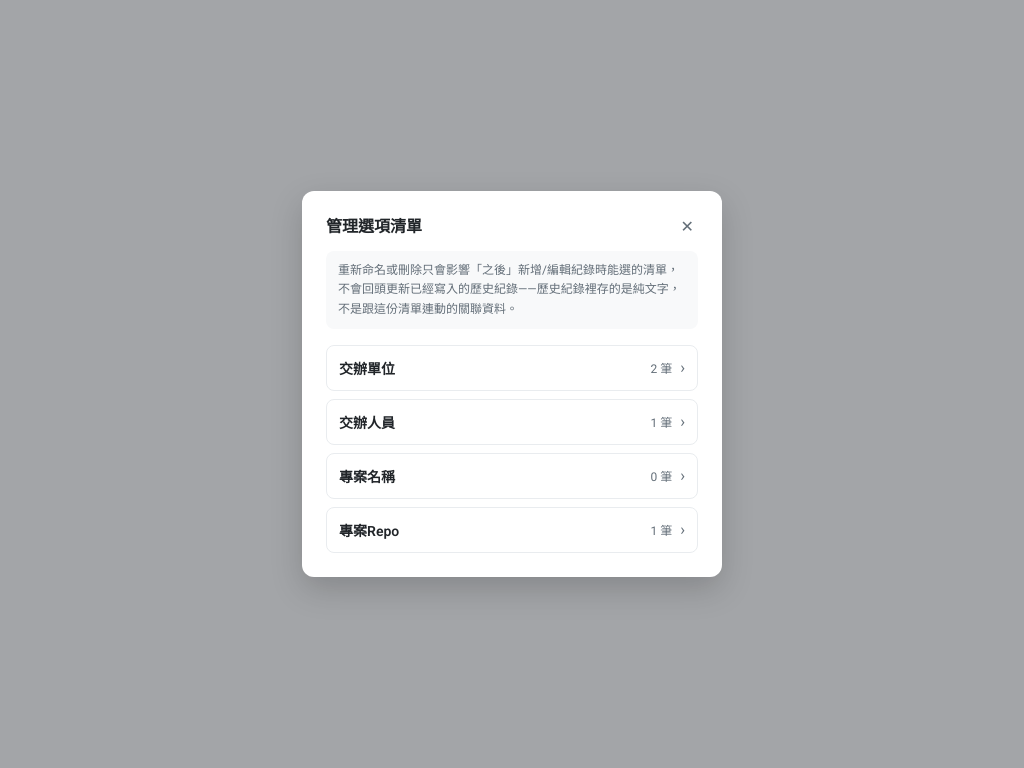
Test: 導覽 › 選了母項只顯示那一類的值，返回回到第一層
The image size is (1024, 768).
Step 1. Click the button "交辦單位 2 筆 ›" → click(367, 369), box [326,345,698,391]
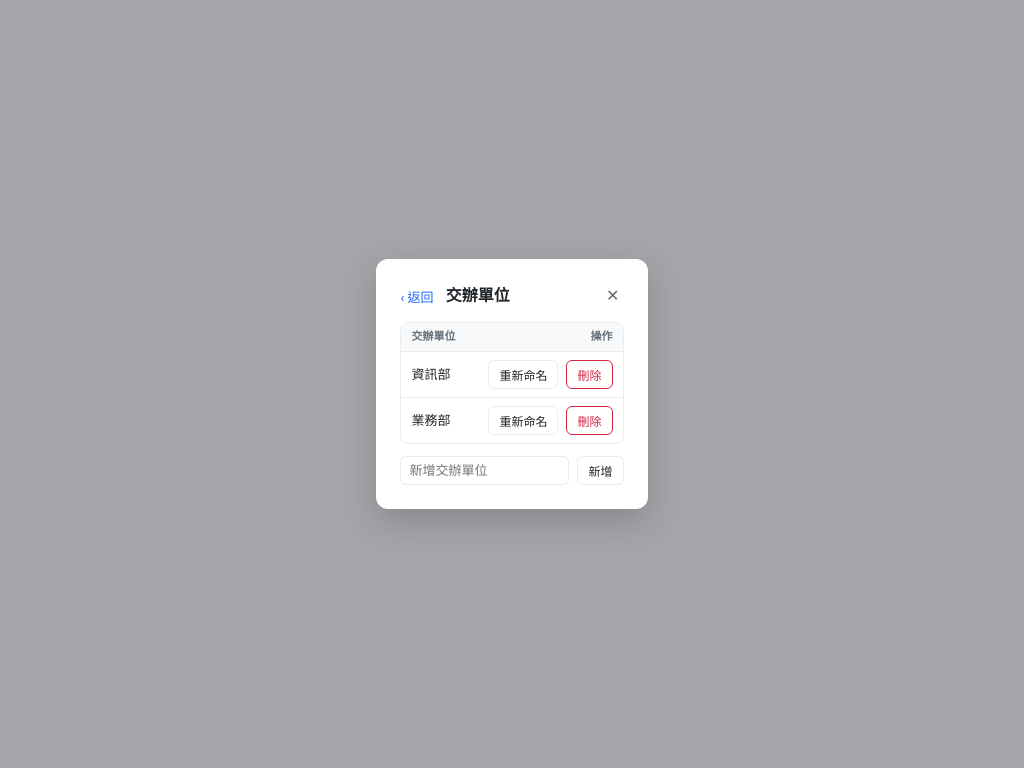
Step 2. Click the button "‹ 返回" → click(419, 296), box [400,283,438,310]
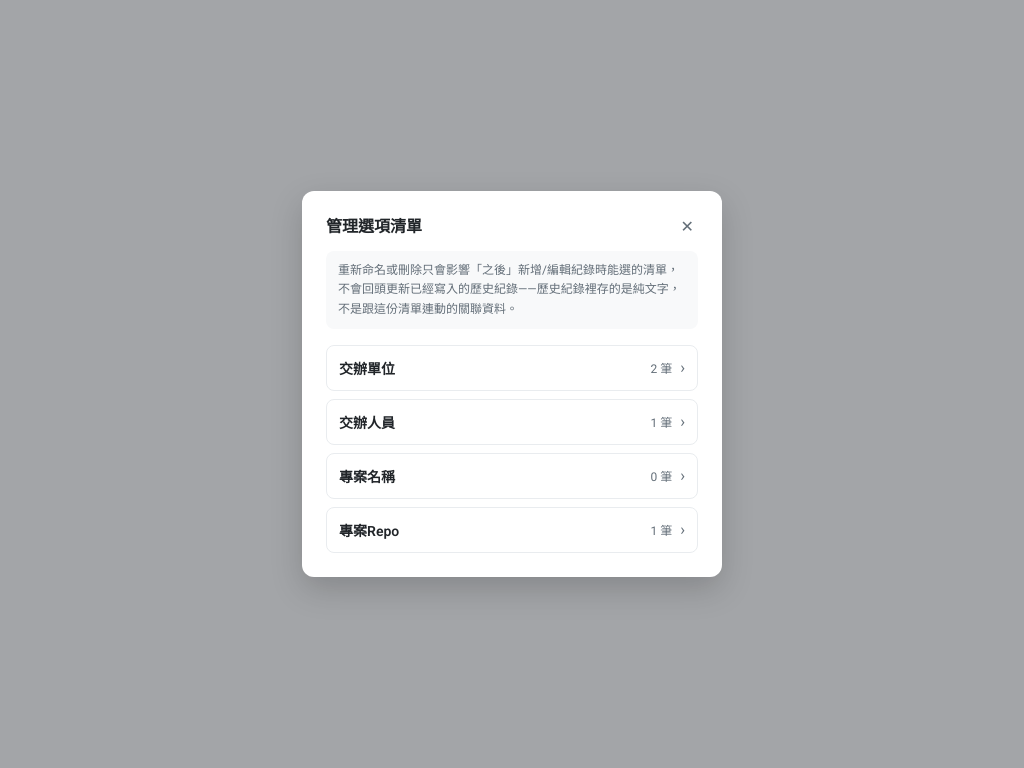
Expected: the number of buttons with class "options-manager__category-btn" is 4, [326,345,698,391]; [326,399,698,445]; [326,453,698,499]; [326,507,698,553]
